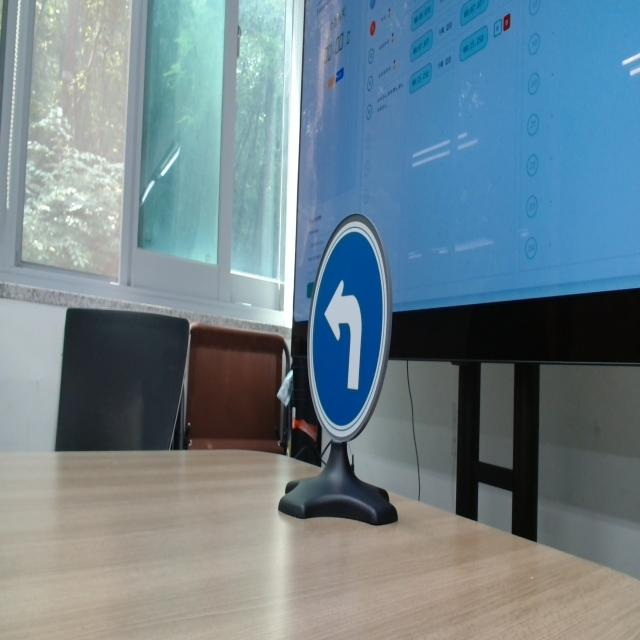left_direction: (300, 207, 392, 433)
